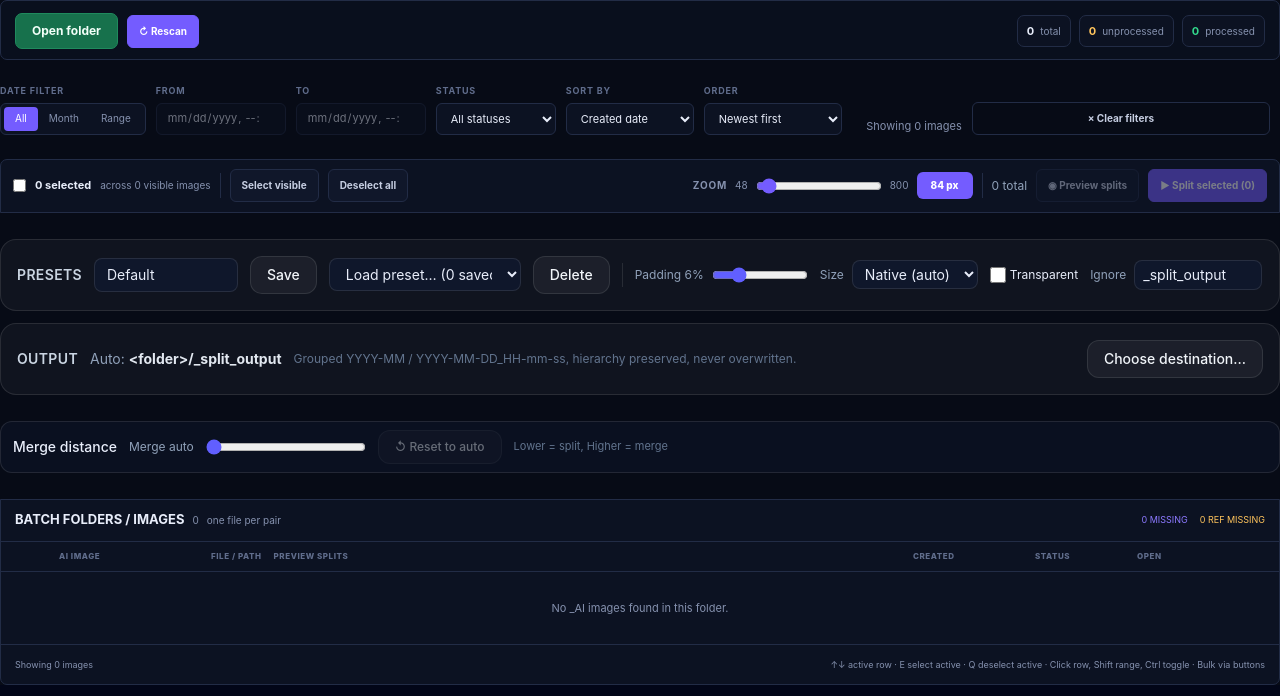
Scenario: Batch folders V2 controls › shows filter grid and bulk bar with zoom 48-800 after picking root
This screenshot has width=1280, height=696.
Click the button with test id "batch-open-folder" at (66,31), box x1=15 y1=13 x2=118 y2=49
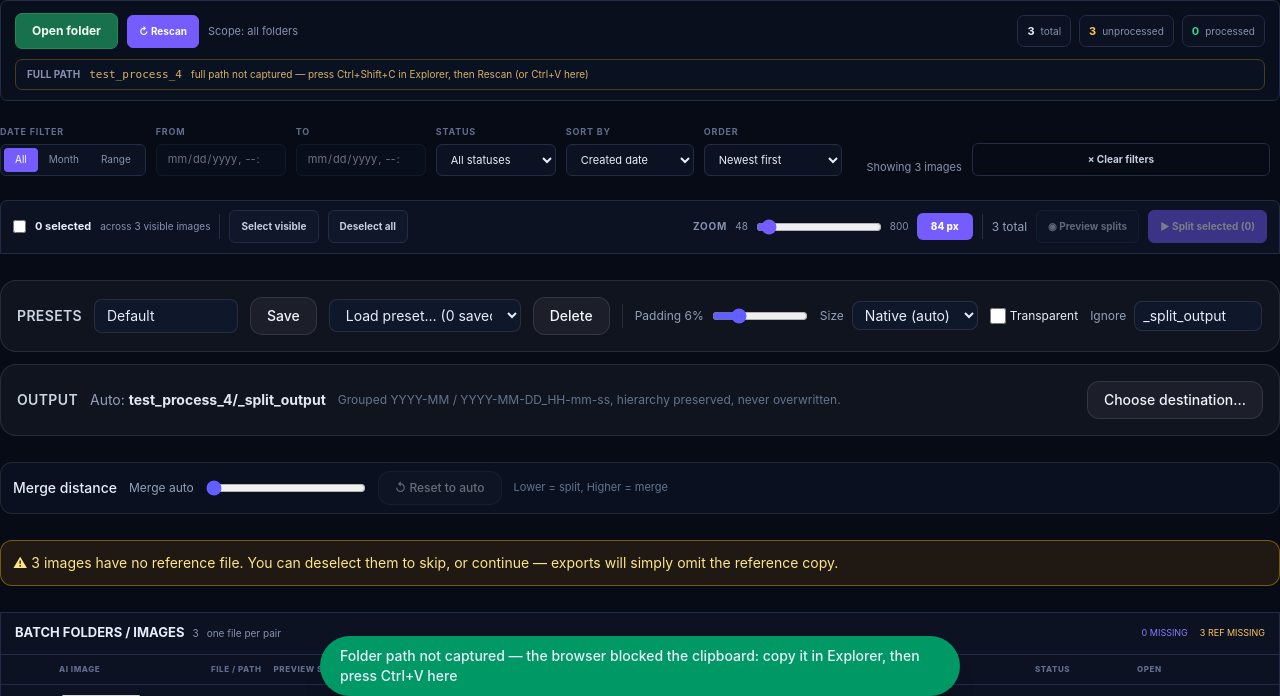
Check: the element with test id "batch-filters" is shown, box x1=0 y1=125 x2=1279 y2=176
Check: the element with test id "batch-folder-path" is shown, box x1=15 y1=59 x2=1265 y2=90
